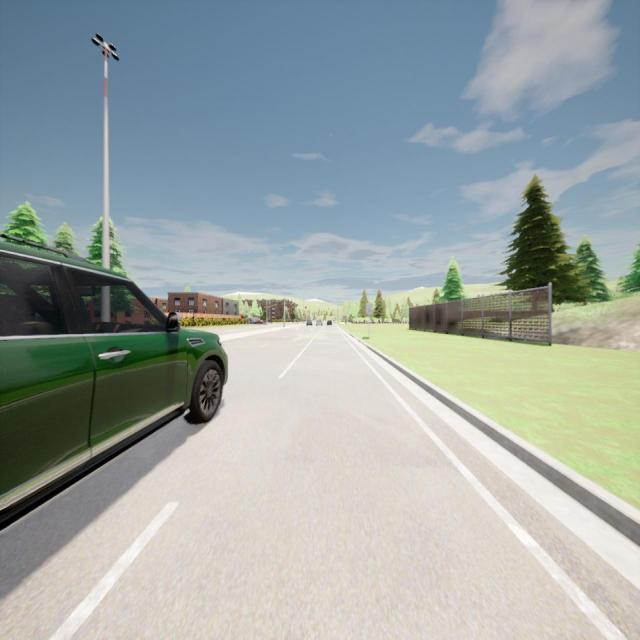Traffic_Signs: (366, 303, 374, 315)
Vehicle: (0, 234, 228, 532), (306, 319, 312, 326), (316, 319, 322, 326), (327, 320, 332, 325)
